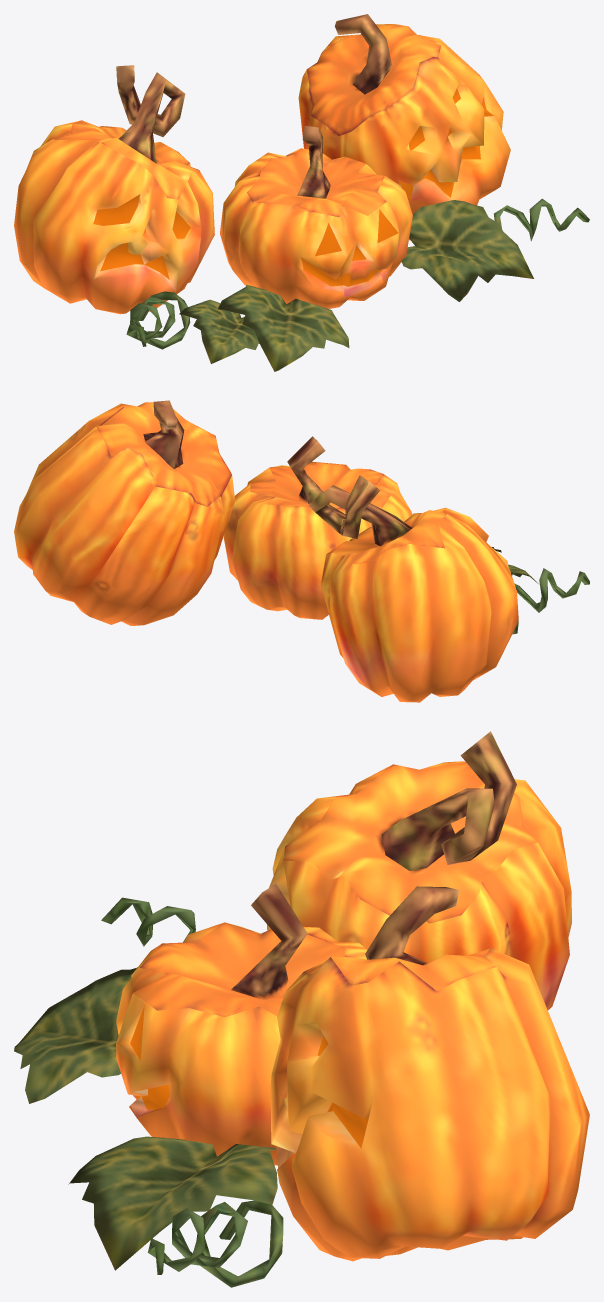
The model's file is CarvedPumpkinCluster.glb.
The picture shows the model from 3 angles, top to bottom: view 1: azimuth 30°, elevation 25°; view 2: azimuth 150°, elevation 25°; view 3: azimuth 270°, elevation 25°; orthographic projection. The views are drawn at different scales.
Visible parts, largest first — view 1: CarvedPumpkinCluster; view 2: CarvedPumpkinCluster; view 3: CarvedPumpkinCluster.
Boxes of the visible parts, bbox=[...] form: CarvedPumpkinCluster: bbox=[14, 14, 589, 371]; CarvedPumpkinCluster: bbox=[14, 400, 589, 702]; CarvedPumpkinCluster: bbox=[14, 731, 589, 1287].
Size of what is drawn, in the model's own units: 1.67 by 0.7317 by 1.11.
2 materials, 2 textured.
